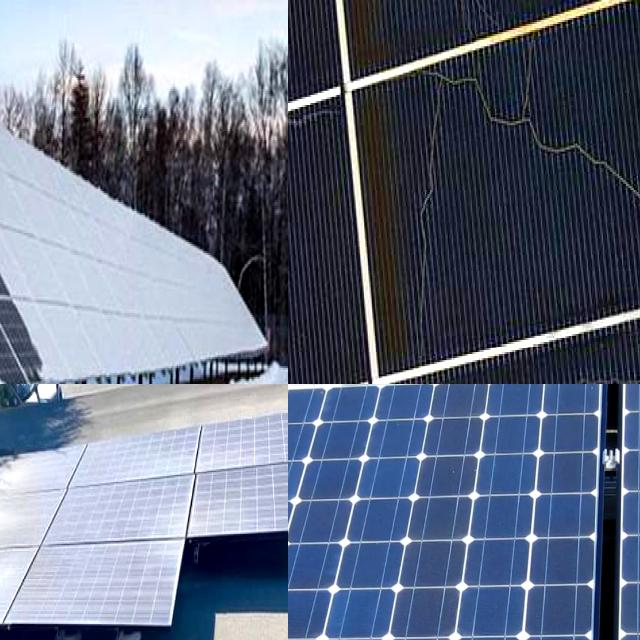crack: (288, 384, 589, 640)
dust: (39, 548, 170, 620), (72, 488, 178, 532), (209, 418, 288, 469), (84, 440, 194, 473), (227, 475, 288, 513), (0, 555, 39, 611), (0, 458, 64, 485), (0, 500, 37, 545), (0, 580, 30, 606)
panel: (0, 131, 84, 304), (0, 6, 67, 180), (96, 222, 185, 348), (182, 250, 266, 354), (0, 279, 35, 384), (32, 320, 85, 384), (0, 115, 53, 176), (0, 214, 51, 265), (0, 358, 24, 384)
shadow: (402, 41, 640, 286), (424, 0, 512, 70), (288, 76, 343, 148), (376, 372, 640, 384)
